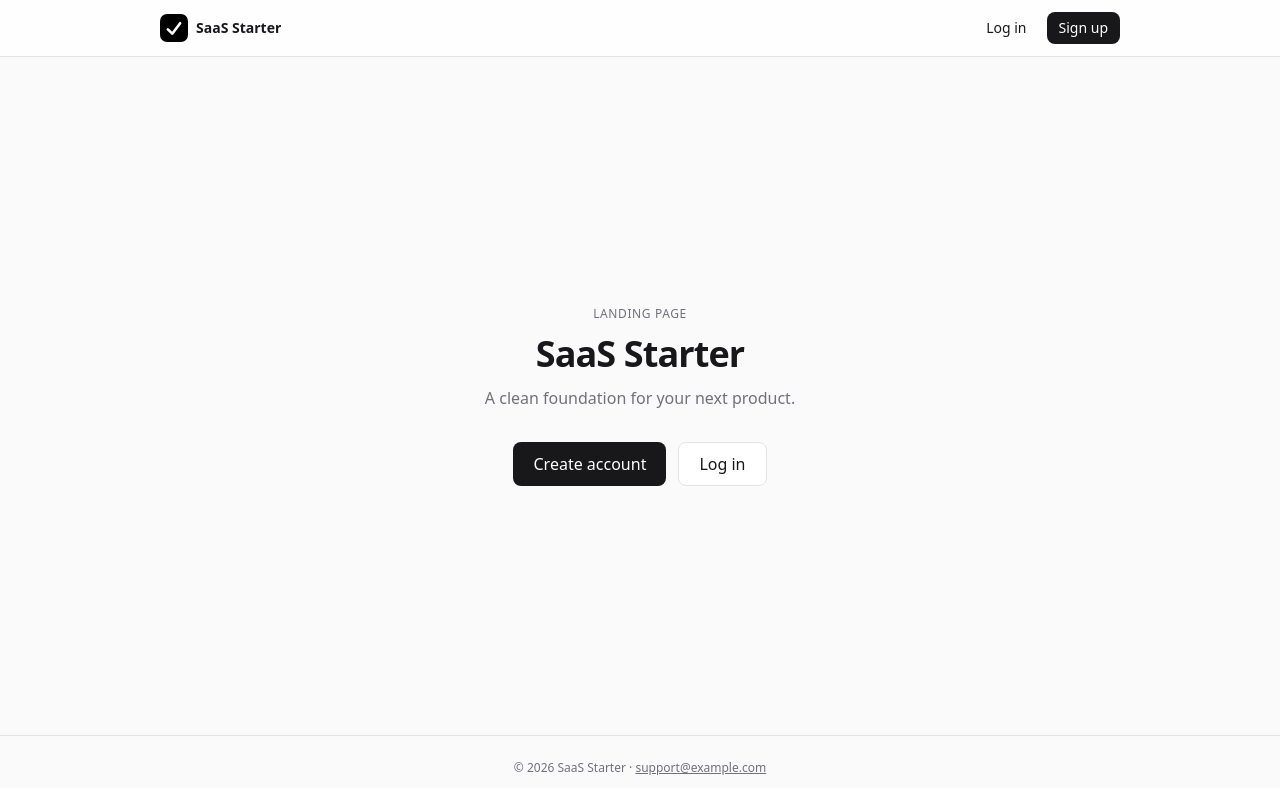
Test case: Landing page › navigates to the signup page
Click the link "Create account" at (590, 464), box [514,442,666,486]
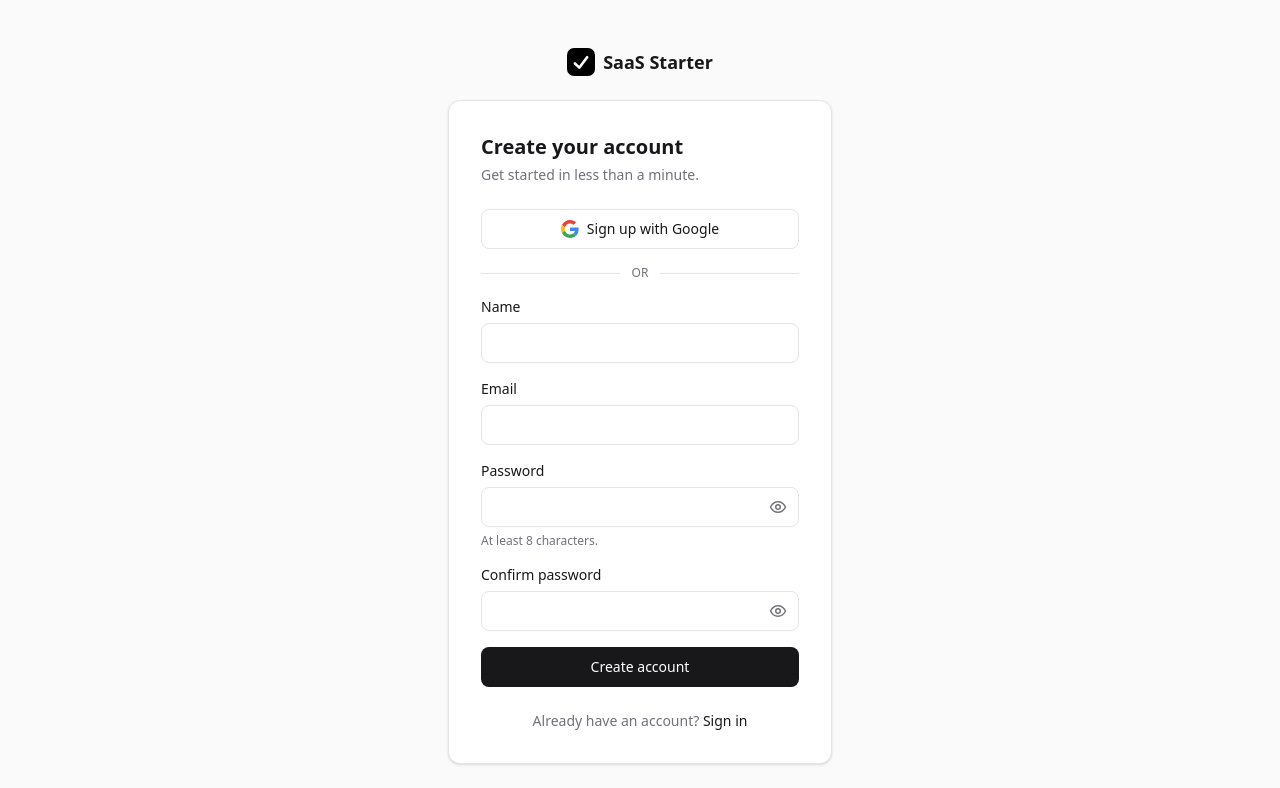
Result: the heading "Create your account" is shown at [481,133,683,160]
